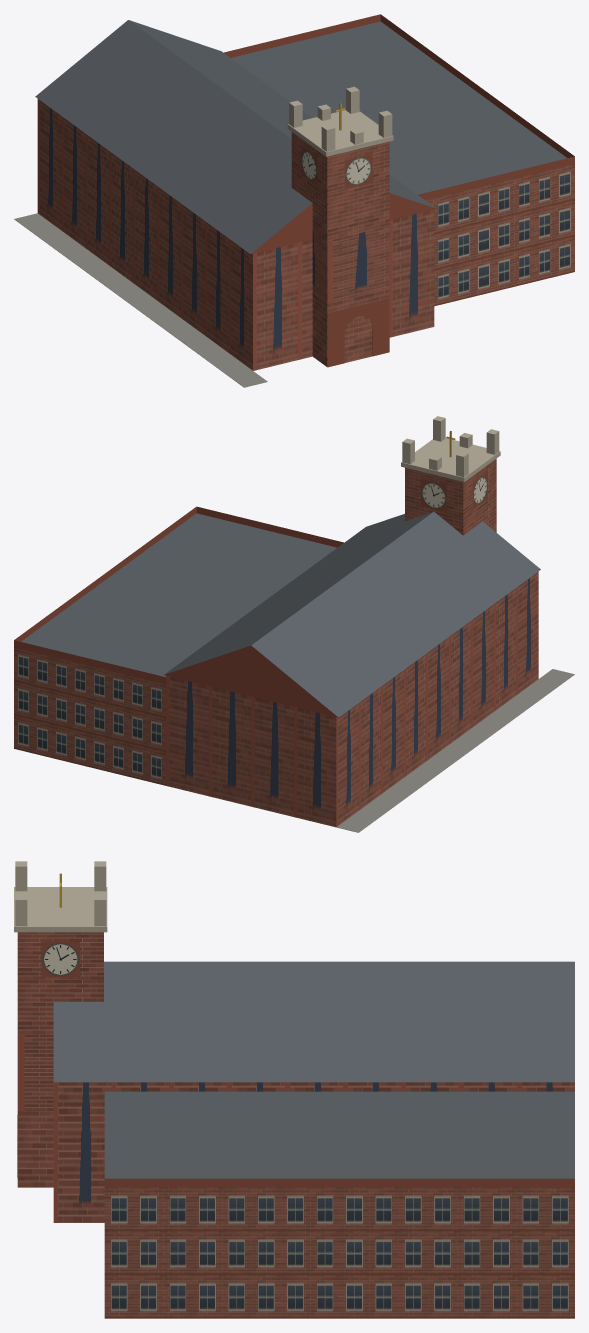
The model's file is old_st_marys.glb.
3 views of the same model, one above another, from view 1: azimuth 30°, elevation 25°; view 2: azimuth 150°, elevation 25°; view 3: azimuth 270°, elevation 25° (orthographic). The views are drawn at different scales.
Visible parts, largest first — view 1: old_st_marys; view 2: old_st_marys; view 3: old_st_marys.
Part boxes in pixels (bbox=[...]): old_st_marys: bbox=[14, 14, 574, 387]; old_st_marys: bbox=[14, 416, 574, 832]; old_st_marys: bbox=[14, 861, 574, 1318].
Size of the model in its own units: 42.5 by 27 by 46.5.
2 materials, 2 textured.
